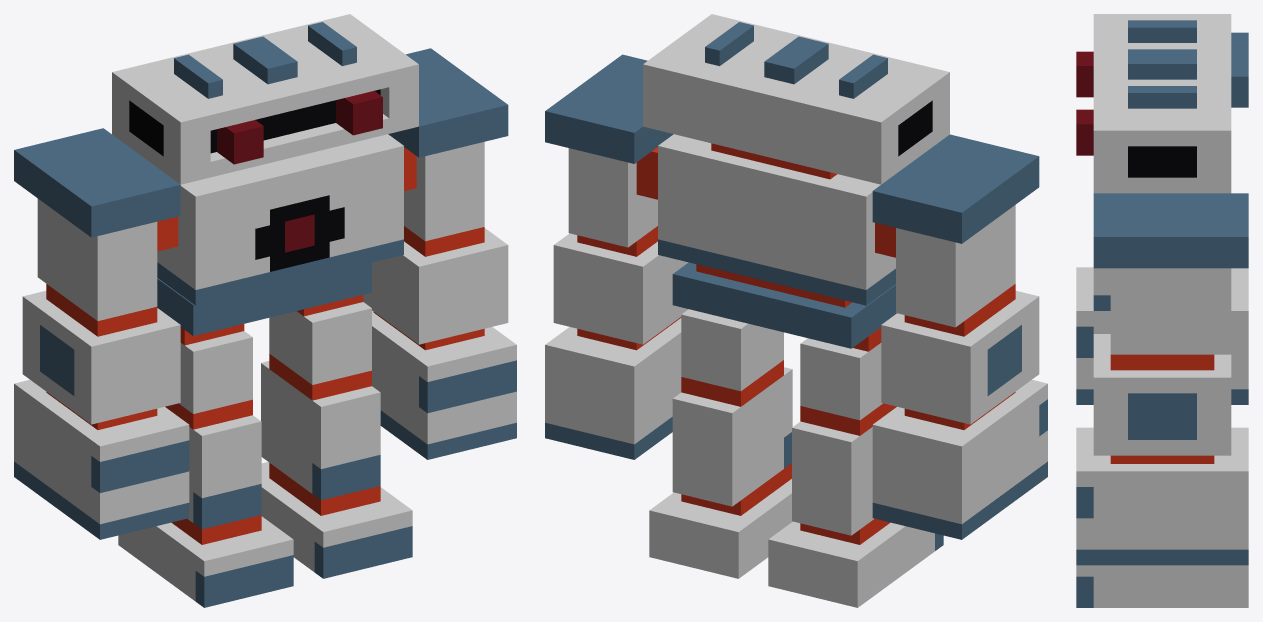
Rendered from boss_slambot.obj.
3 views of the same model, side by side, from view 1: azimuth 30°, elevation 25°; view 2: azimuth 150°, elevation 25°; view 3: azimuth 270°, elevation 25° (orthographic).
Visible parts, largest first — view 1: Torso, Head, FistR, FistL, ForearmR, ShinL, ForearmL, FootR, FootL, UpperArmR, ShinR, ThighL (+3 smaller); view 2: Torso, Head, FistR, ForearmR, FistL, ShinL, ForearmL, UpperArmR, FootR, FootL, ShinR, Pelvis (+3 smaller); view 3: Head, FistL, ForearmL, Torso, UpperArmL, FootL, FistR.
Boxes of the visible parts, x1=… form: Torso: x1=14, y1=48, x2=508, y2=305; Head: x1=112, y1=14, x2=418, y2=184; FistR: x1=14, y1=380, x2=189, y2=539; FistL: x1=372, y1=310, x2=516, y2=459; ForearmR: x1=22, y1=284, x2=180, y2=424; ShinL: x1=261, y1=354, x2=380, y2=500; ForearmL: x1=363, y1=226, x2=508, y2=344; FootR: x1=118, y1=515, x2=293, y2=607; FootL: x1=261, y1=462, x2=412, y2=578; UpperArmR: x1=37, y1=198, x2=178, y2=320; ShinR: x1=165, y1=399, x2=261, y2=529; ThighL: x1=269, y1=295, x2=371, y2=384; Torso: x1=545, y1=54, x2=1039, y2=307; Head: x1=643, y1=14, x2=949, y2=184; FistR: x1=872, y1=380, x2=1047, y2=539; ForearmR: x1=881, y1=284, x2=1039, y2=424; FistL: x1=545, y1=317, x2=681, y2=459; ShinL: x1=672, y1=360, x2=792, y2=506; ForearmL: x1=553, y1=226, x2=688, y2=344; UpperArmR: x1=875, y1=205, x2=1015, y2=327; FootR: x1=768, y1=519, x2=943, y2=607; FootL: x1=649, y1=463, x2=792, y2=578; ShinR: x1=792, y1=403, x2=896, y2=535; Pelvis: x1=672, y1=262, x2=896, y2=348; Head: x1=1076, y1=14, x2=1231, y2=193; FistL: x1=1076, y1=427, x2=1248, y2=565; ForearmL: x1=1093, y1=334, x2=1231, y2=455; Torso: x1=1093, y1=32, x2=1248, y2=310; UpperArmL: x1=1110, y1=268, x2=1231, y2=354; FootL: x1=1076, y1=565, x2=1248, y2=607; FistR: x1=1076, y1=267, x2=1248, y2=404.
Size of the model in its own units: 42 by 48 by 15.
